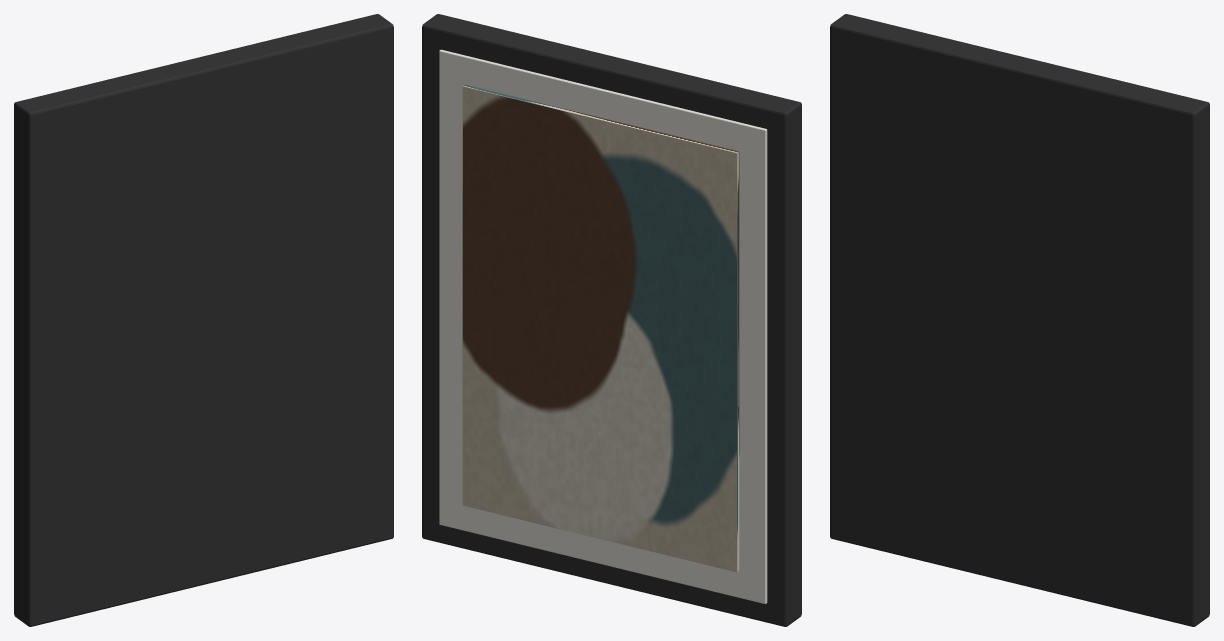
The model's file is corridor_art_b3.glb.
3 views of the same model, side by side, from view 1: azimuth 30°, elevation 25°; view 2: azimuth 150°, elevation 25°; view 3: azimuth 330°, elevation 25° (orthographic).
Visible parts, largest first — view 1: corridor_art_b3; view 2: corridor_art_b3; view 3: corridor_art_b3.
Boxes of the visible parts, box(x1,y1,x2,y2) form: corridor_art_b3: box(14, 14, 393, 626); corridor_art_b3: box(422, 14, 801, 626); corridor_art_b3: box(830, 14, 1209, 626).
Bounding box in the file's own units: 0.52 × 0.7 × 0.05.
Materials: 3 (1 with a texture image).
